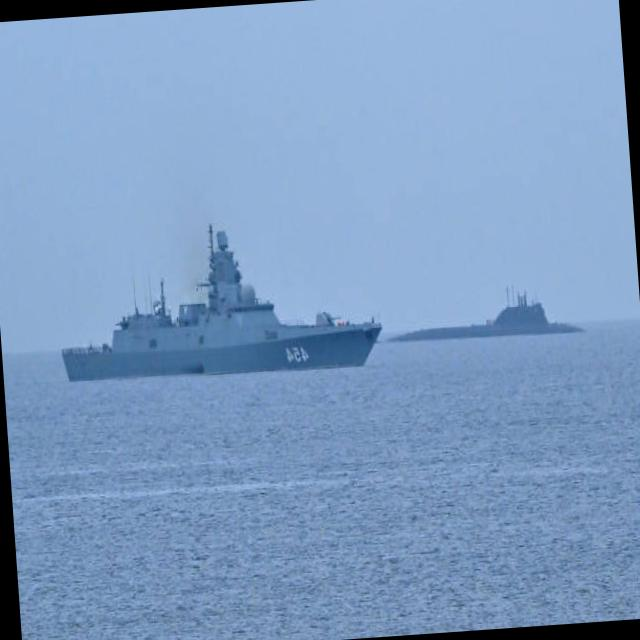Military: (60, 219, 381, 383)
